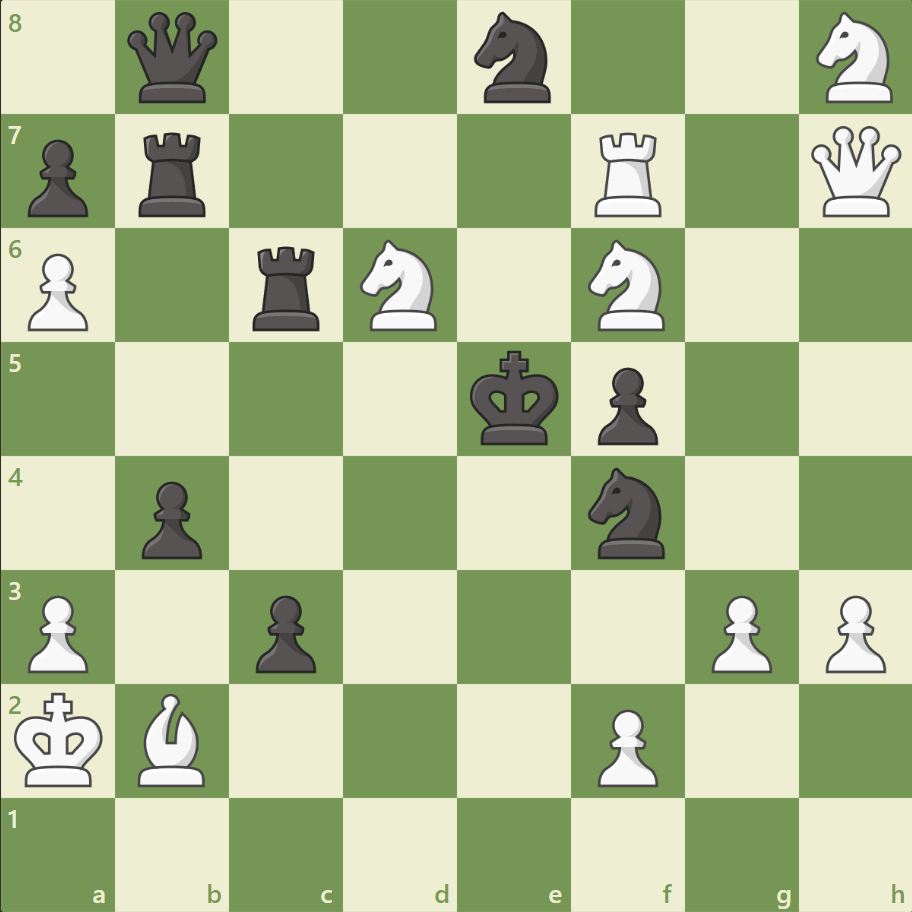B: (131, 687, 215, 790)
K: (11, 685, 111, 793)
N: (351, 234, 449, 337), (806, 7, 903, 110), (579, 234, 676, 337)
P: (20, 246, 95, 337), (20, 586, 95, 677), (701, 586, 776, 677), (815, 586, 889, 677), (588, 700, 662, 791)
Q: (805, 122, 904, 222)
R: (587, 125, 670, 222)
k: (465, 344, 565, 452)
n: (465, 7, 562, 110), (579, 461, 676, 564)
p: (20, 132, 95, 223), (133, 473, 208, 564), (247, 586, 322, 677), (588, 359, 662, 450)
q: (124, 9, 223, 108)
r: (246, 239, 329, 336), (133, 125, 215, 222)
